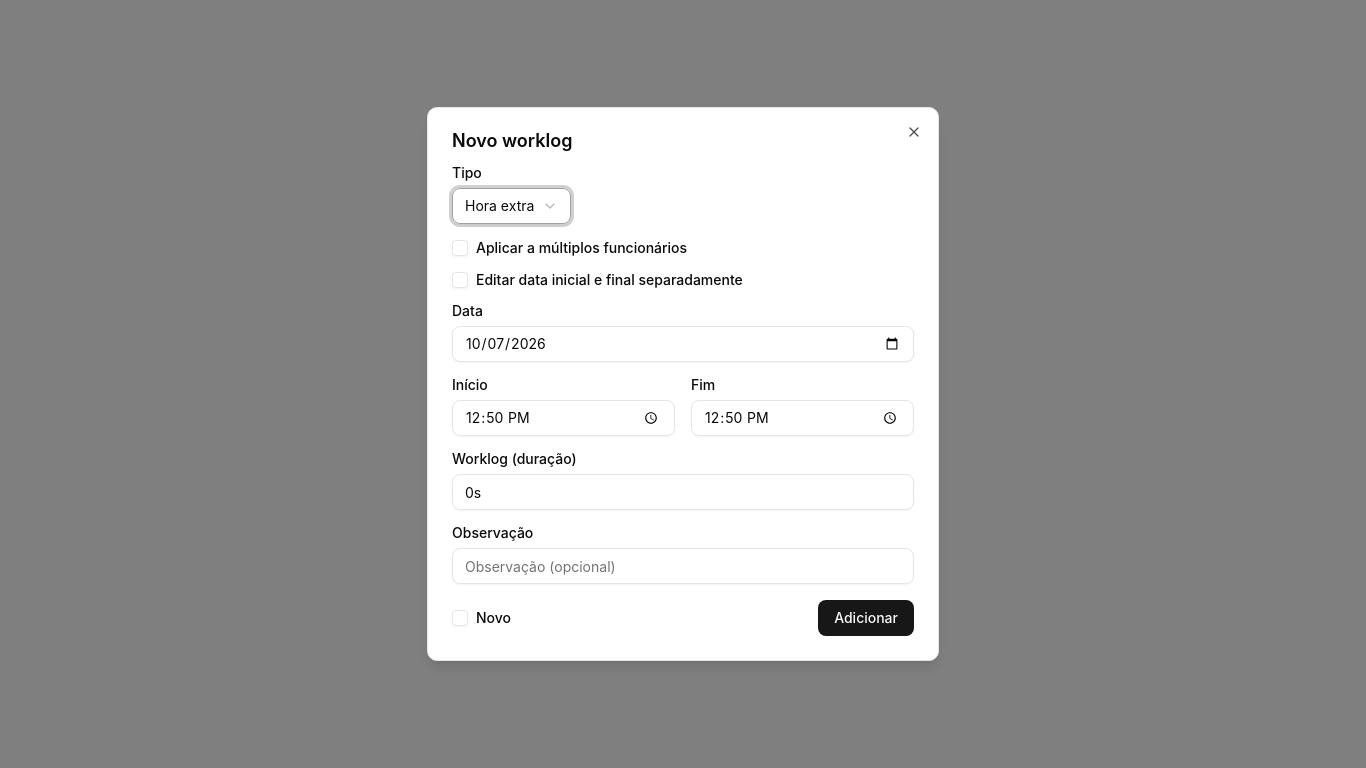
WorkLogFormModal › simple mode (Data/Início/Fim inputs) › toggling the advanced mode checkbox after editing the duration field does not regress the already-corrected end time
Type "2026-01-01" into the date field.
click(683, 344); type("2026-01-01")  # box [452,326,914,362]
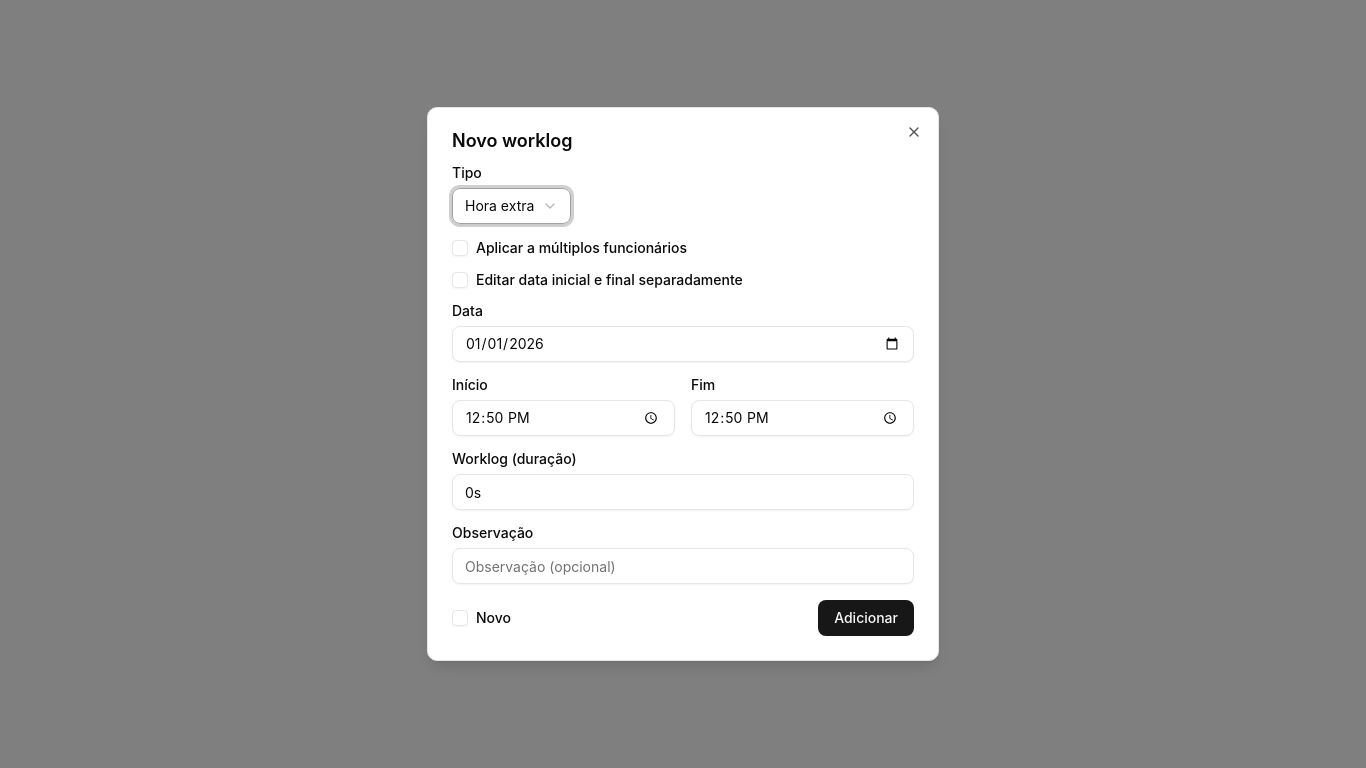
Replace the text in the time field below "Início" with "08:00" at (564, 418), box [452,400,675,436]
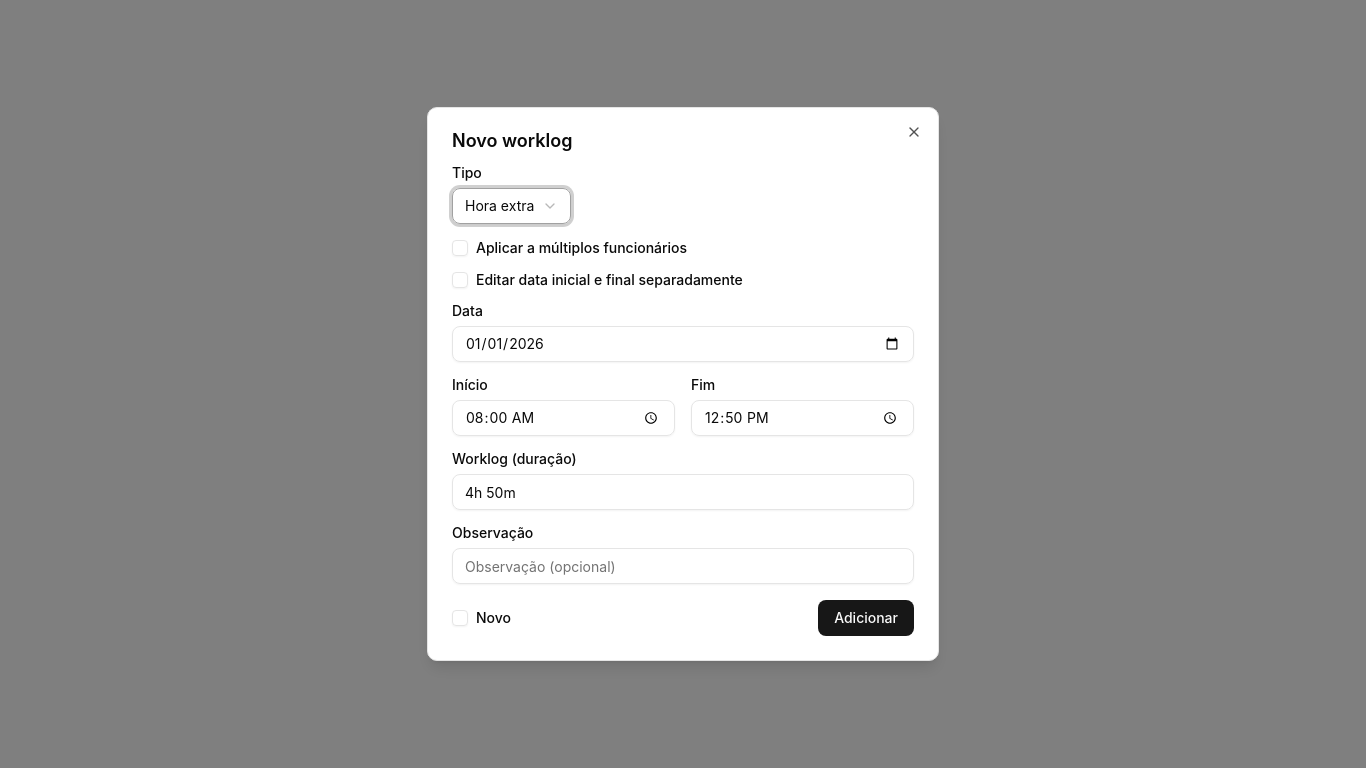
Replace the text in the time field below "Fim" with "08:00" at (802, 418), box [691,400,914,436]
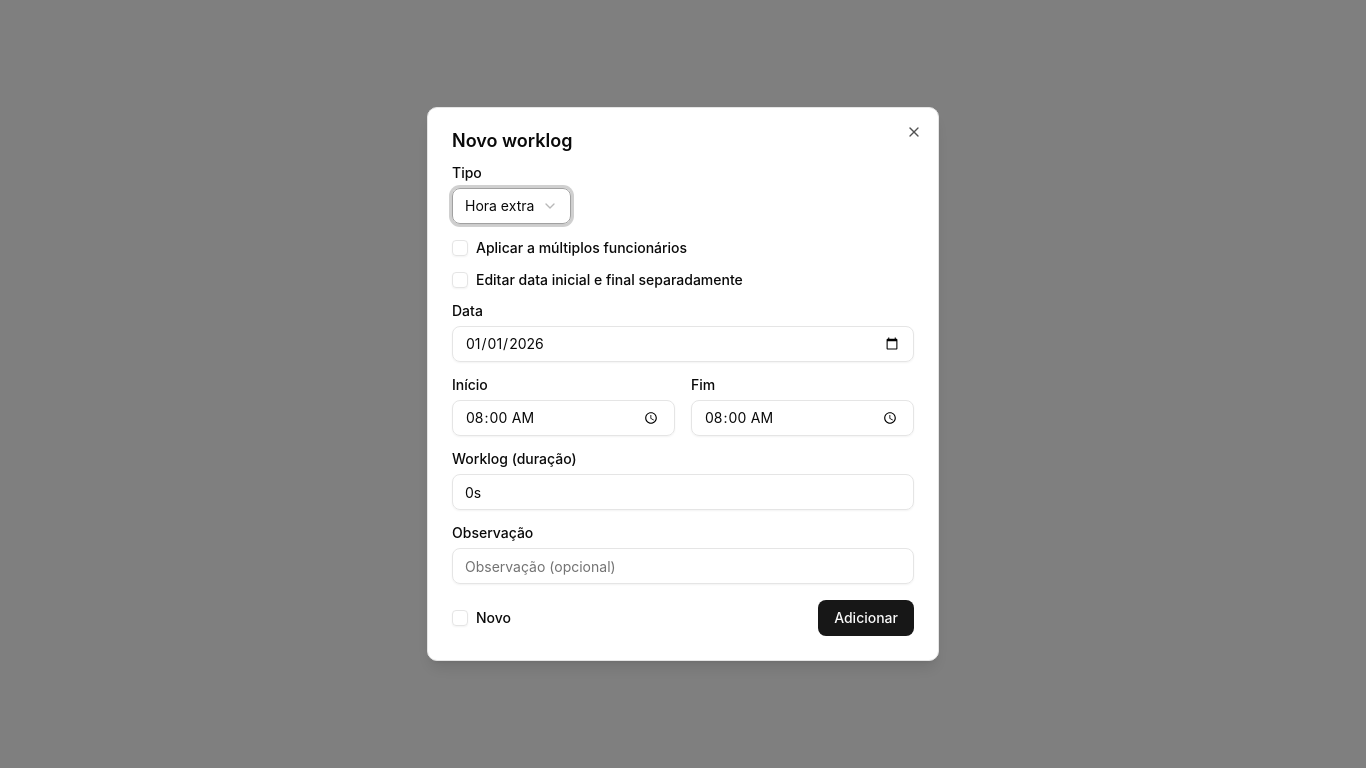
Replace the text in the field with placeholder "Ex.: 1h 30m" with "2h" at (683, 492), box [452,474,914,510]
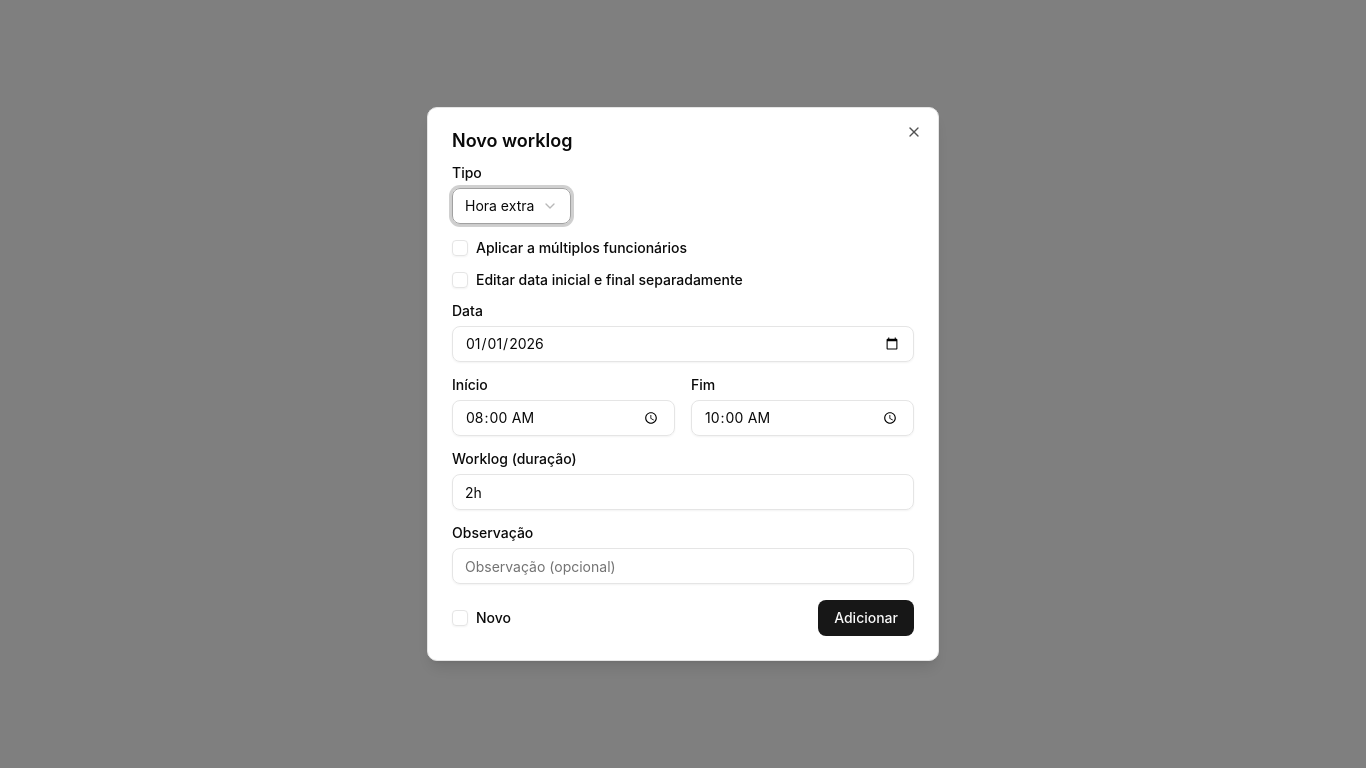
Result: the time field below "Fim" holds "10:00" at [691,400,914,436]
Click the 2nd checkbox named "editar data inicial e final separadamente".
click(460, 280)  # box [452,272,468,288]
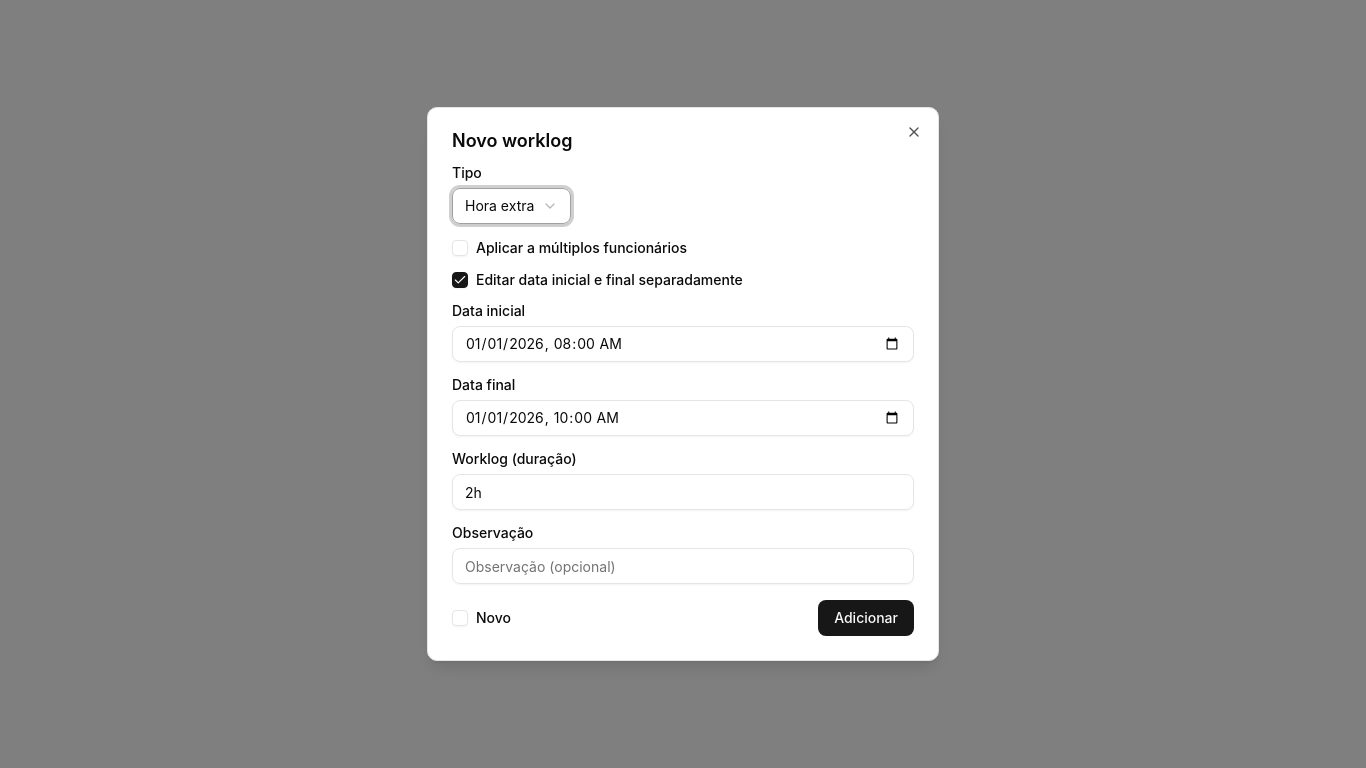
Click the 2nd checkbox named "editar data inicial e final separadamente".
click(460, 280)  # box [452,272,468,288]
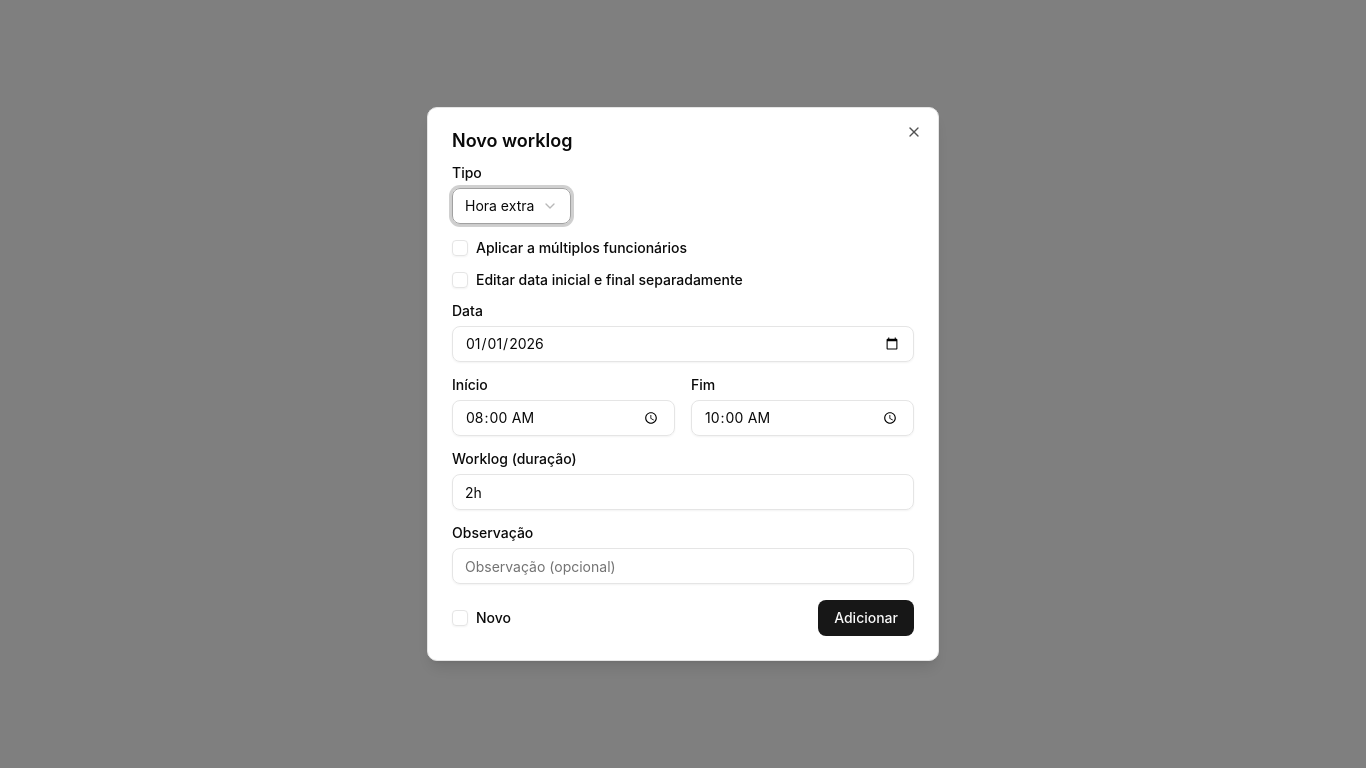
Result: the time field below "Fim" holds "10:00" at [691,400,914,436]
